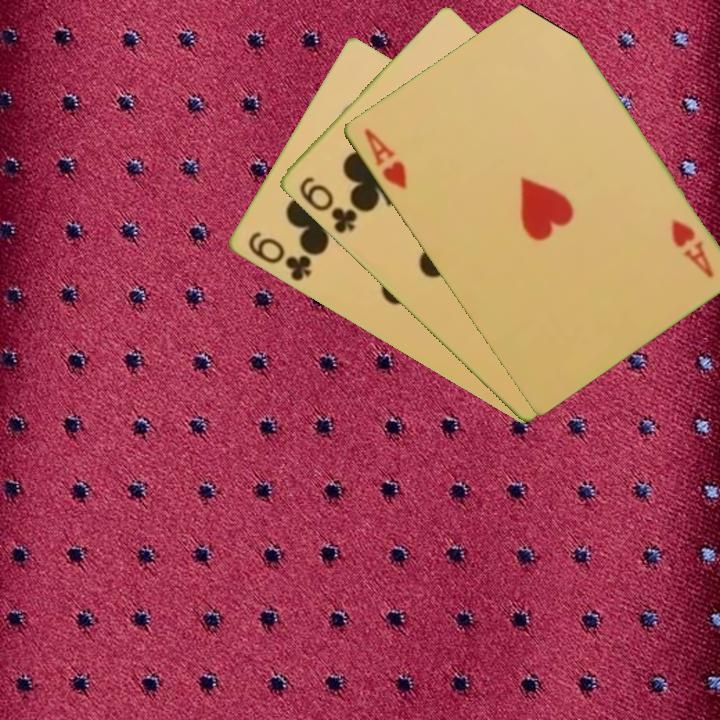6c: (295, 173, 360, 237), (244, 228, 314, 285)
Ah: (360, 124, 410, 192), (667, 215, 717, 281)
